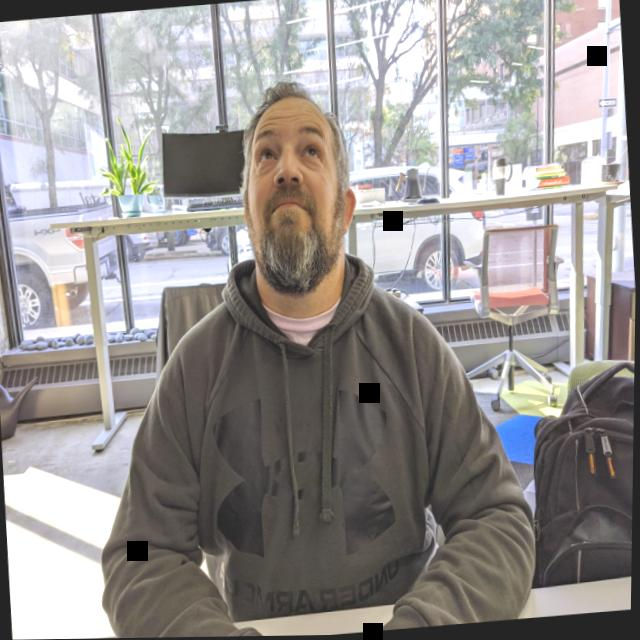NO-Mask: (236, 102, 352, 300)
